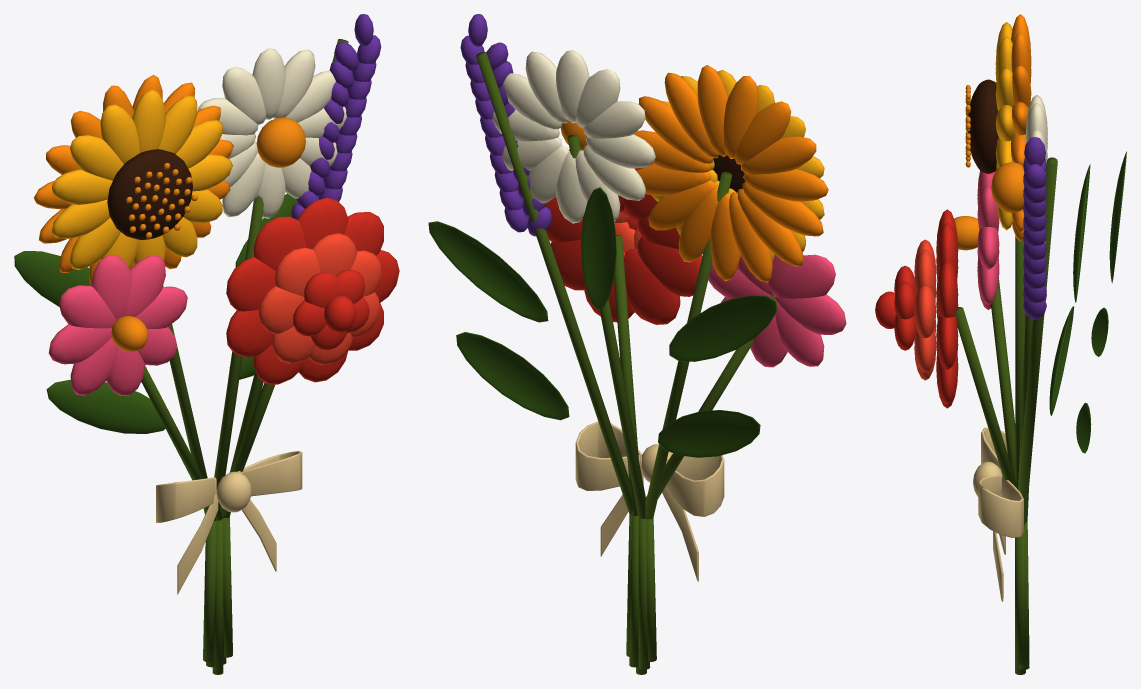
Rendered from held-a-prototype-v2.glb.
3 renders of one model, left to right at view 1: azimuth 30°, elevation 25°; view 2: azimuth 150°, elevation 25°; view 3: azimuth 270°, elevation 25°, orthographic. The views are drawn at different scales.
Visible parts, largest first — view 1: Sunflower, Rose, Daisy, Cosmos, Stems, Ribbon, Foliage, Lavender; view 2: Sunflower, Foliage, Stems, Daisy, Rose, Cosmos, Ribbon, Lavender; view 3: Stems, Rose, Sunflower, Foliage, Lavender, Ribbon, Cosmos, Daisy.
Boxes of the visible parts, x1=… form: Sunflower: x1=34, y1=75, x2=233, y2=285; Rose: x1=226, y1=197, x2=399, y2=384; Daisy: x1=198, y1=48, x2=346, y2=218; Cosmos: x1=48, y1=254, x2=187, y2=395; Stems: x1=141, y1=39, x2=348, y2=674; Ribbon: x1=156, y1=451, x2=302, y2=594; Foliage: x1=14, y1=193, x2=297, y2=433; Lavender: x1=291, y1=14, x2=381, y2=219; Sunflower: x1=634, y1=65, x2=828, y2=282; Foliage: x1=428, y1=187, x2=776, y2=457; Stems: x1=476, y1=52, x2=775, y2=674; Daisy: x1=492, y1=50, x2=655, y2=223; Rose: x1=545, y1=149, x2=702, y2=324; Cosmos: x1=708, y1=252, x2=846, y2=367; Ribbon: x1=575, y1=421, x2=724, y2=581; Lavender: x1=460, y1=14, x2=552, y2=236; Stems: x1=955, y1=157, x2=1057, y2=674; Rose: x1=875, y1=209, x2=958, y2=408; Sunflower: x1=965, y1=14, x2=1031, y2=241; Foliage: x1=1049, y1=151, x2=1126, y2=453; Lavender: x1=1023, y1=137, x2=1046, y2=319; Ribbon: x1=973, y1=427, x2=1023, y2=601; Cosmos: x1=954, y1=170, x2=999, y2=309; Daisy: x1=991, y1=95, x2=1047, y2=243.
Bounding box in the file's own units: 0.4435 × 0.736 × 0.2755.
